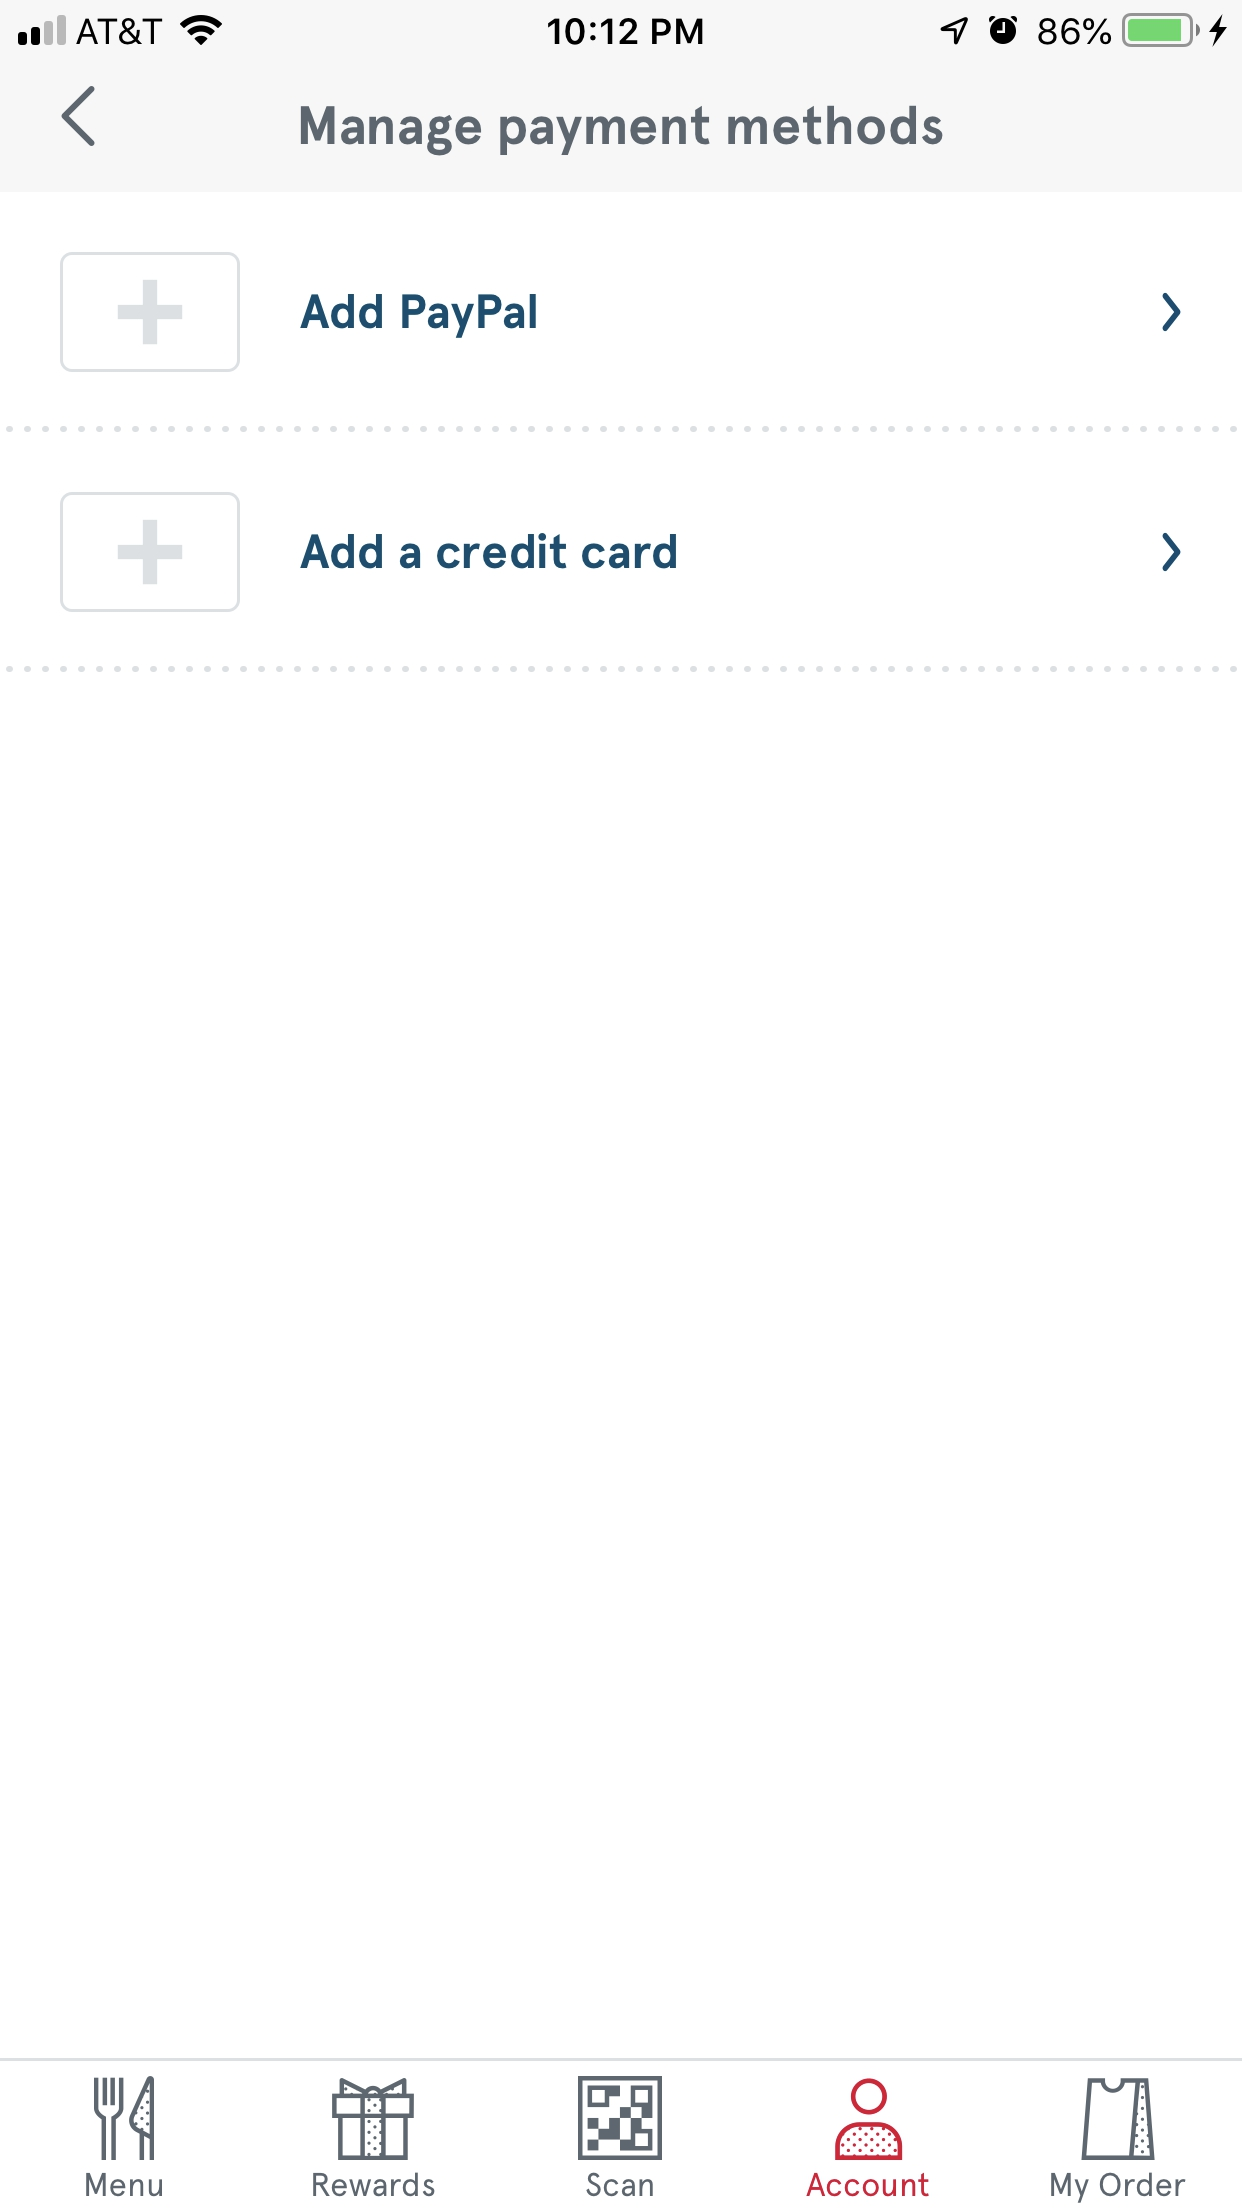Icon: (61, 253, 243, 375), (61, 491, 241, 613), (332, 2078, 416, 2161), (836, 2078, 902, 2161), (62, 86, 96, 149), (1162, 293, 1181, 334), (1162, 532, 1181, 573)
Image: (578, 2076, 663, 2161), (1081, 2078, 1156, 2161), (94, 2076, 156, 2161)
Text: (300, 105, 943, 158), (300, 532, 676, 570), (299, 294, 537, 340), (1049, 2172, 1186, 2203), (312, 2172, 437, 2197), (805, 2172, 930, 2197), (86, 2172, 164, 2197), (585, 2172, 654, 2197)
UpperTaskBar: (2, 2, 1242, 49)
